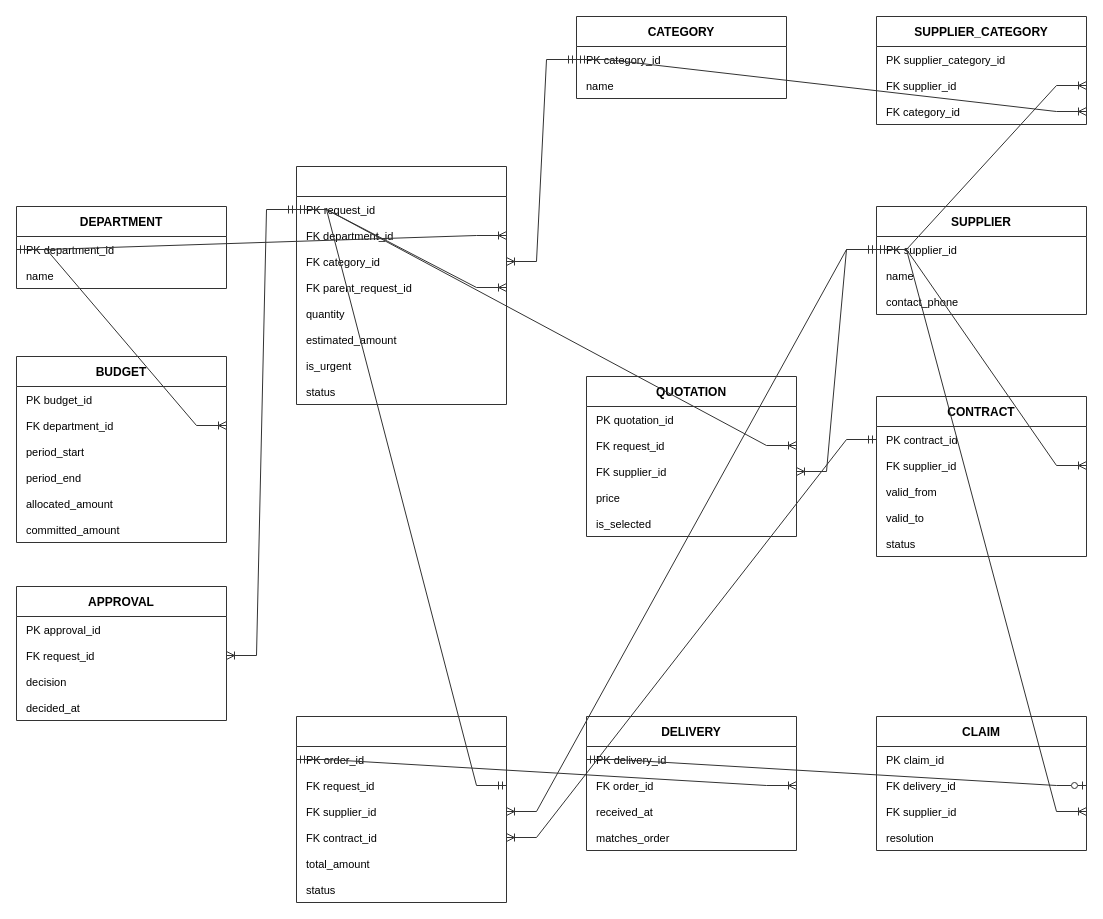
This 1103x919 diagram has some shape labels left out. The shapes that lost their labels are listed below. From the top down, each one's box as (x1, y1, x2, y2) in pixels, then its label:
(296, 166, 506, 404): PURCHASE_REQUEST
(296, 716, 506, 902): PURCHASE_ORDER
